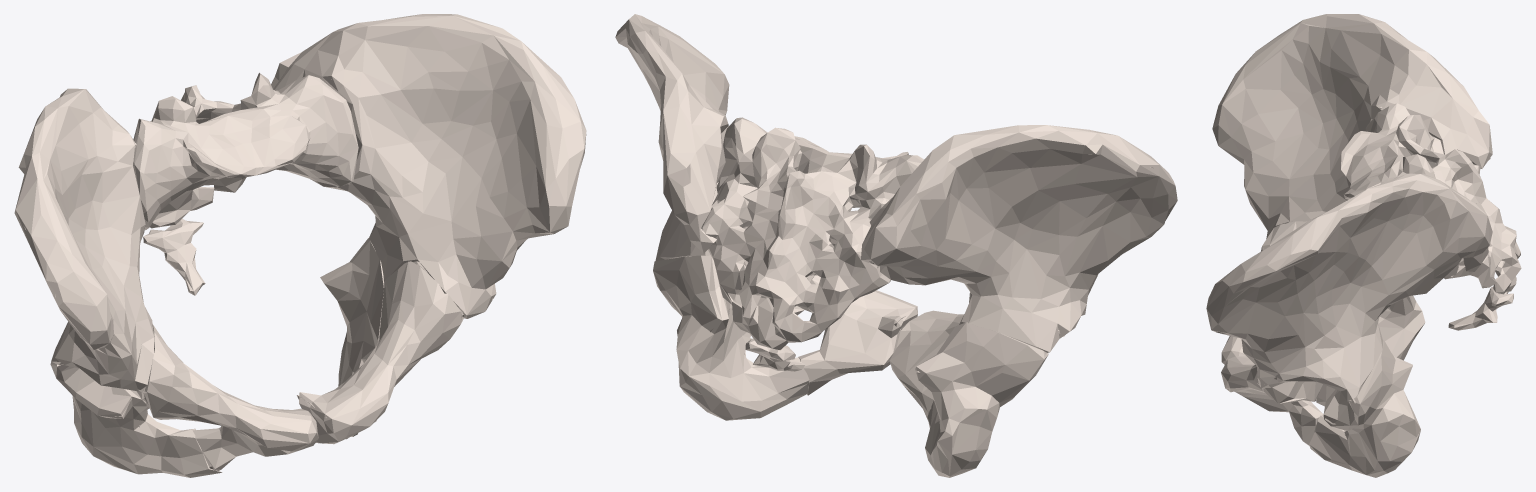
File: VH_F_Pelvis_0.1.glb
The picture shows the model from 3 angles, left to right: view 1: azimuth 30°, elevation 25°; view 2: azimuth 150°, elevation 25°; view 3: azimuth 270°, elevation 25°; orthographic projection. The views are drawn at different scales.
Visible parts, largest first — view 1: VH_F_ilium_compact_bone_L, VH_F_ilium_compact_bone_R, VH_F_sacrum, VH_F_pubis_compact_bone_L, VH_F_pubis_compact_bone_R, VH_F_ischium_compact_bone_R, VH_F_ischium_compact_bone_L, VH_F_coccyx; view 2: VH_F_ilium_compact_bone_R, VH_F_sacrum, VH_F_ilium_compact_bone_L, VH_F_ischium_compact_bone_L, VH_F_ischium_compact_bone_R, VH_F_pubis_compact_bone_L, VH_F_pubis_compact_bone_R, VH_F_coccyx; view 3: VH_F_ilium_compact_bone_L, VH_F_ilium_compact_bone_R, VH_F_sacrum, VH_F_ischium_compact_bone_L, VH_F_pubis_compact_bone_L, VH_F_ischium_compact_bone_R, VH_F_coccyx, VH_F_pubis_compact_bone_R.
Part boxes in pixels (x1,y1,x2,y2): VH_F_ilium_compact_bone_L: (271, 14, 586, 318); VH_F_ilium_compact_bone_R: (14, 88, 154, 391); VH_F_sacrum: (133, 72, 358, 230); VH_F_pubis_compact_bone_L: (299, 261, 463, 444); VH_F_pubis_compact_bone_R: (143, 324, 318, 470); VH_F_ischium_compact_bone_R: (50, 362, 222, 477); VH_F_ischium_compact_bone_L: (320, 238, 422, 436); VH_F_coccyx: (143, 218, 205, 295); VH_F_ilium_compact_bone_R: (861, 125, 1177, 352); VH_F_sacrum: (701, 117, 923, 349); VH_F_ilium_compact_bone_L: (615, 14, 747, 261); VH_F_ischium_compact_bone_L: (653, 255, 809, 420); VH_F_ischium_compact_bone_R: (915, 322, 1048, 477); VH_F_pubis_compact_bone_L: (743, 260, 917, 395); VH_F_pubis_compact_bone_R: (889, 310, 963, 419); VH_F_coccyx: (742, 335, 804, 371); VH_F_ilium_compact_bone_L: (1206, 173, 1492, 403); VH_F_ilium_compact_bone_R: (1212, 14, 1492, 238); VH_F_sacrum: (1341, 103, 1521, 294); VH_F_ischium_compact_bone_L: (1309, 340, 1420, 477); VH_F_pubis_compact_bone_L: (1221, 356, 1323, 445); VH_F_ischium_compact_bone_R: (1378, 295, 1425, 360); VH_F_coccyx: (1448, 286, 1513, 330); VH_F_pubis_compact_bone_R: (1221, 221, 1306, 364).
Bounding box in the file's own units: 0.3176 × 0.2121 × 0.1832.
